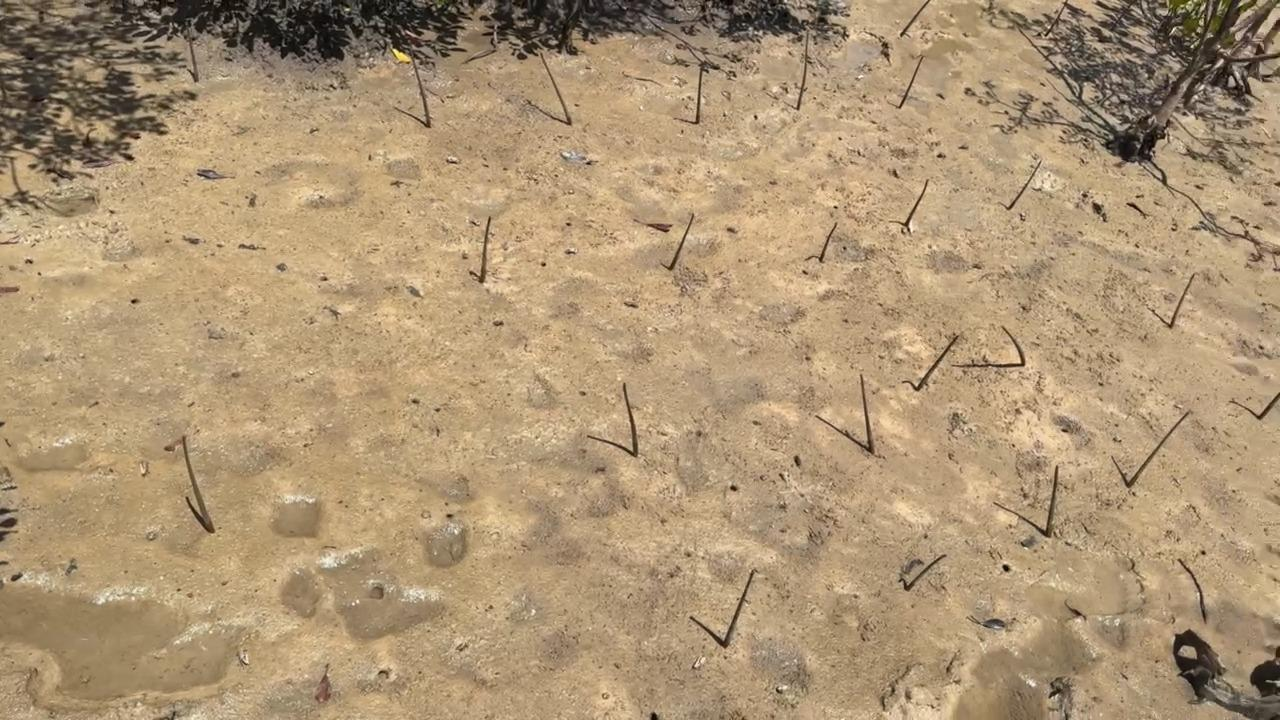Tree: (1128, 412, 1189, 487), (183, 436, 214, 533), (722, 571, 755, 647), (539, 53, 573, 124), (917, 335, 959, 389), (410, 50, 433, 128), (1008, 161, 1041, 210), (669, 214, 694, 271), (908, 554, 947, 590), (1168, 276, 1194, 327), (899, 55, 923, 108), (860, 375, 876, 453), (623, 381, 639, 457), (903, 179, 929, 225), (900, 0, 930, 36), (1001, 326, 1025, 366), (1045, 466, 1058, 537), (798, 31, 809, 110), (1045, 0, 1068, 37), (480, 217, 492, 283), (820, 222, 837, 260), (187, 27, 198, 83), (1258, 392, 1280, 420), (696, 68, 704, 124)
